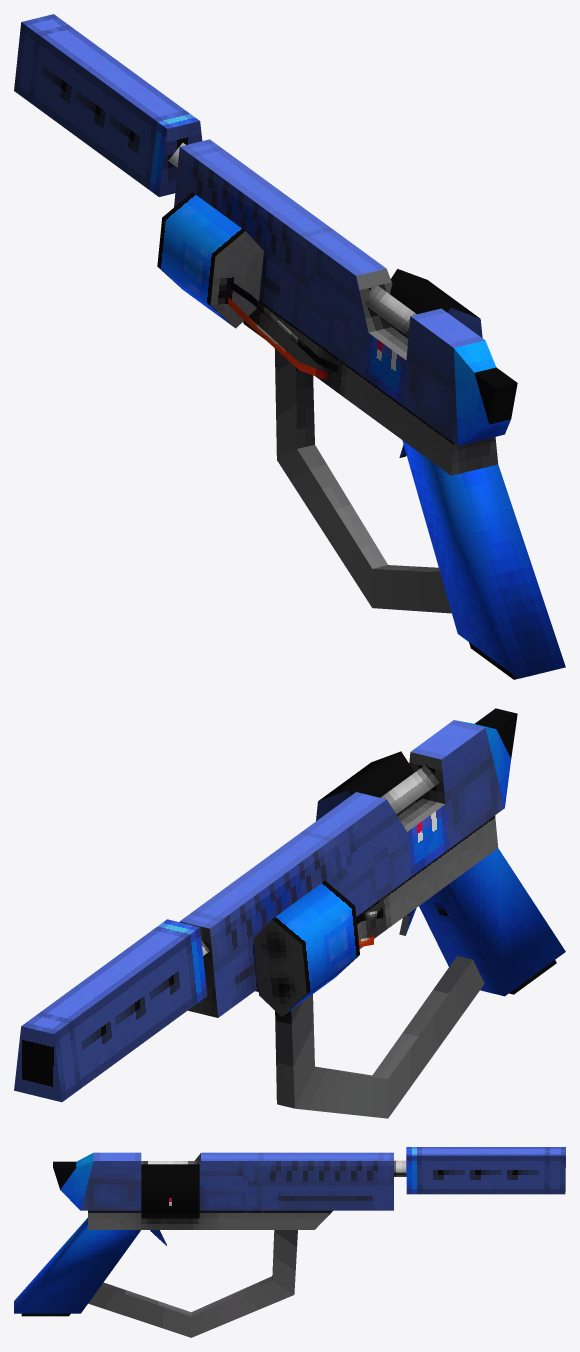
3 views of the same model, one above another, from view 1: azimuth 30°, elevation 25°; view 2: azimuth 150°, elevation 25°; view 3: azimuth 270°, elevation 25° (orthographic). The views are drawn at different scales.
Visible parts, largest first — view 1: pistol.001; view 2: pistol.001; view 3: pistol.001.
Part boxes in pixels (x1,y1,x2,y2): pistol.001: (14,14,565,679); pistol.001: (14,708,565,1118); pistol.001: (14,1147,565,1337).
Bounding box in the file's own units: 0.0993 × 0.2386 × 0.6473.
Materials: 1 (1 with a texture image).
